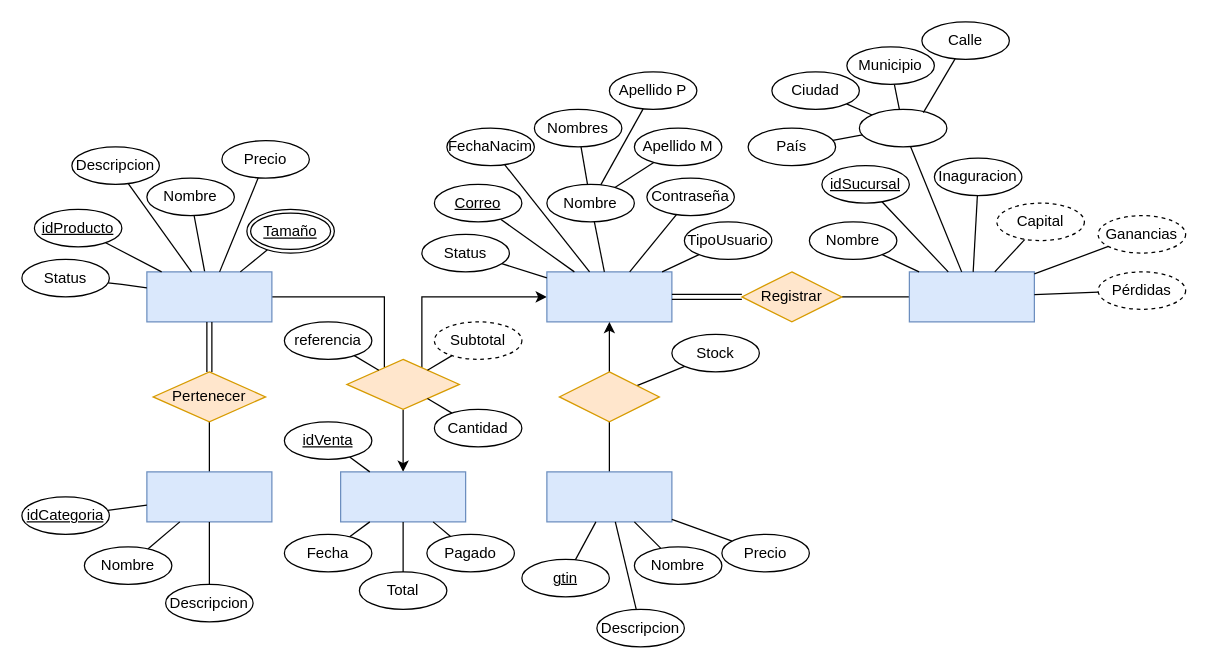
Image size: 1208x669. Some labels were removed from this diagram. The centre of each missing label's shape, as x and y in pixels:
Adquirir: the point at 608,396
Categoría: the point at 209,496
Dirección: the point at 902,127
Insumo: the point at 609,496
Producto: the point at 209,296
Sucursal: the point at 971,296
Usuario: the point at 609,296
Vender: the point at 402,383
Venta: the point at 402,496
